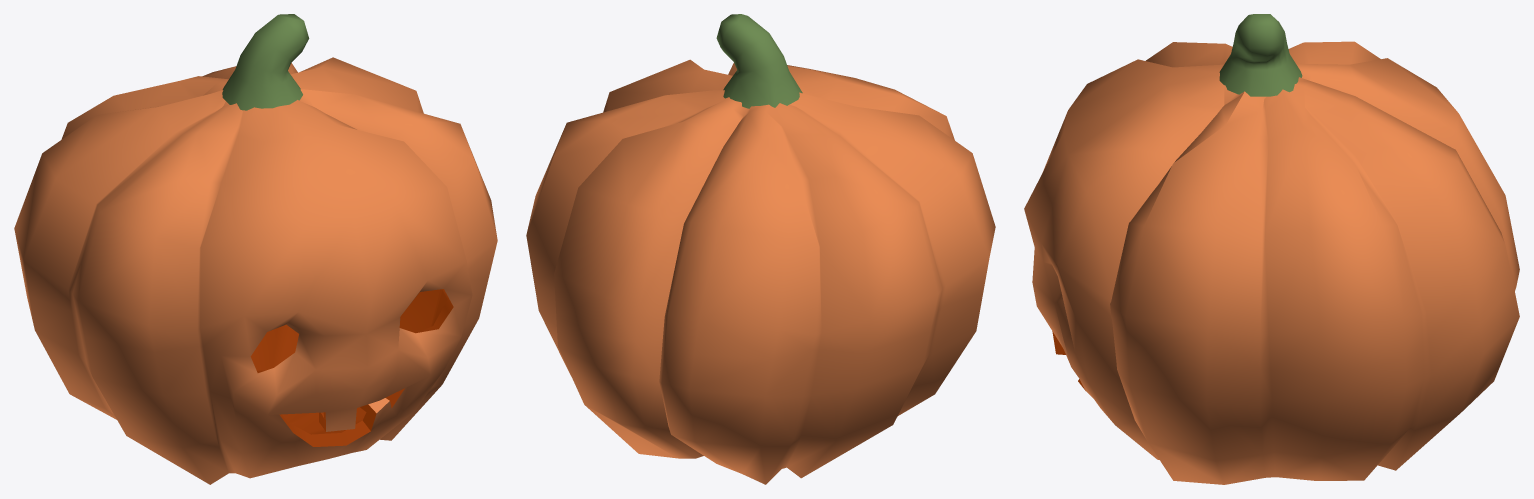
Rendered from pumpkin_2 2.fbx.
3 renders of one model, left to right at view 1: azimuth 30°, elevation 25°; view 2: azimuth 150°, elevation 25°; view 3: azimuth 270°, elevation 25°, orthographic. The views are drawn at different scales.
Visible parts, largest first — view 1: pumpkin_2; view 2: pumpkin_2; view 3: pumpkin_2.
Part boxes in pixels (x1,y1,x2,y2): pumpkin_2: (14,14,497,484); pumpkin_2: (526,14,995,484); pumpkin_2: (1024,14,1519,484).
Bounding box in the file's own units: 134 × 132 × 131.
